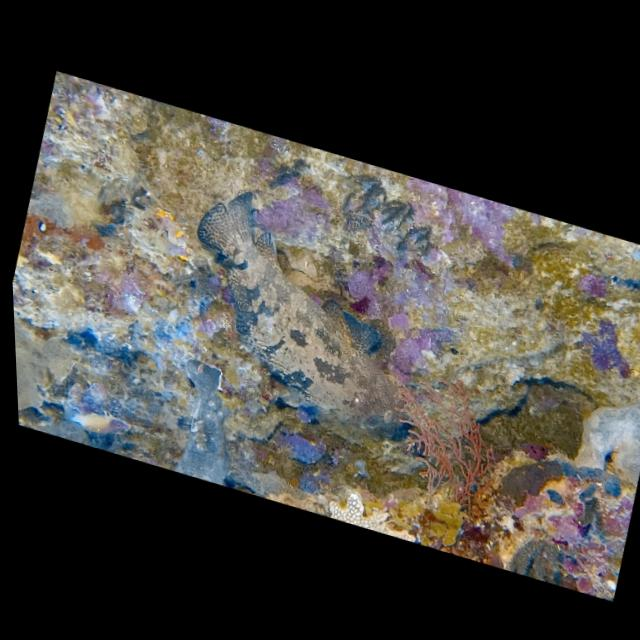Groupers: (158, 175, 455, 445)
